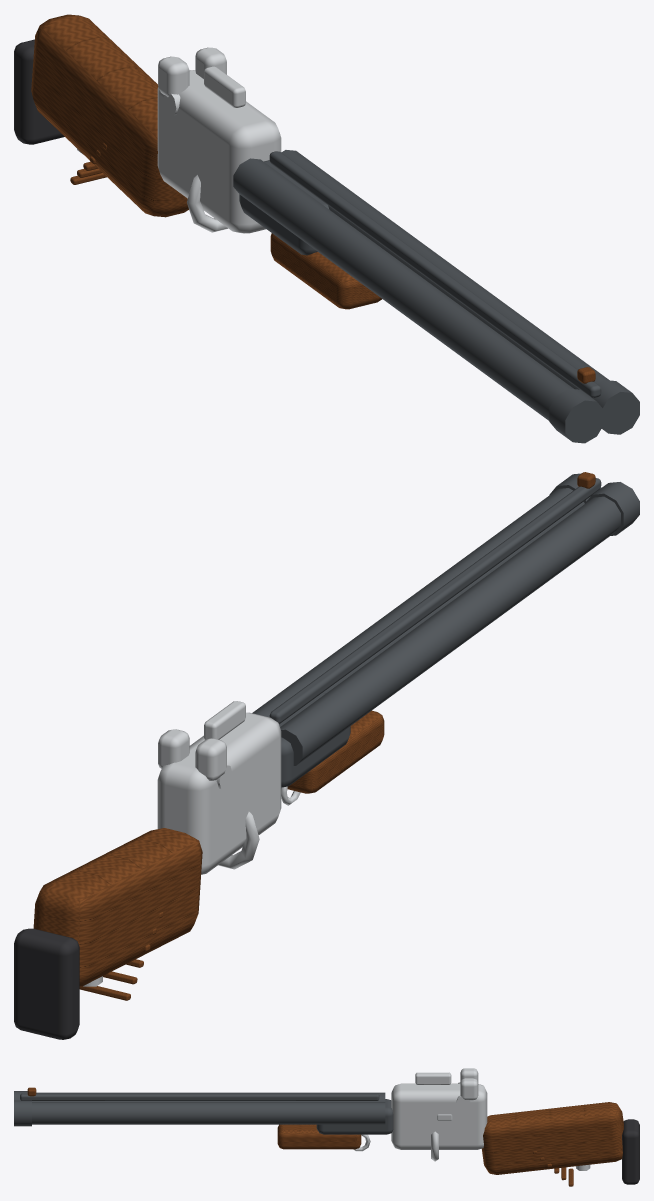
Rendered from fps-survival-forest-outpost-weapon-breach-shotgun-7f8e2b62__32653.glb.
The picture shows the model from 3 angles, top to bottom: view 1: azimuth 30°, elevation 25°; view 2: azimuth 150°, elevation 25°; view 3: azimuth 270°, elevation 25°; orthographic projection. The views are drawn at different scales.
Parts seen in each view (by area): view 1: weapon-breach-shotgun, breech/gunmetal, breech/timber; view 2: weapon-breach-shotgun, breech/gunmetal, breech/timber; view 3: weapon-breach-shotgun, breech/gunmetal, breech/timber.
Part boxes in pixels (x1=…): weapon-breach-shotgun: x1=14, y1=14, x2=281, y2=233; breech/gunmetal: x1=233, y1=150, x2=639, y2=443; breech/timber: x1=270, y1=233, x2=595, y2=383; weapon-breach-shotgun: x1=14, y1=701, x2=300, y2=1039; breech/gunmetal: x1=252, y1=473, x2=639, y2=787; breech/timber: x1=287, y1=472, x2=595, y2=793; weapon-breach-shotgun: x1=353, y1=1068, x2=639, y2=1186; breech/gunmetal: x1=14, y1=1091, x2=393, y2=1134; breech/timber: x1=27, y1=1087, x2=361, y2=1149.
Size of the model in its own units: 0.0798 by 0.1952 by 1.04.
Materials: 4 (1 with a texture image).
